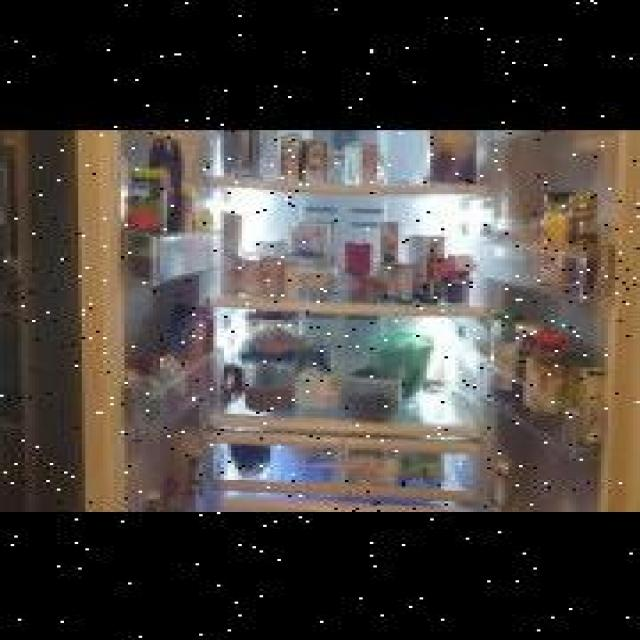mayonaise: (540, 188, 576, 284)
yogurt: (283, 136, 304, 182), (306, 141, 327, 181)
